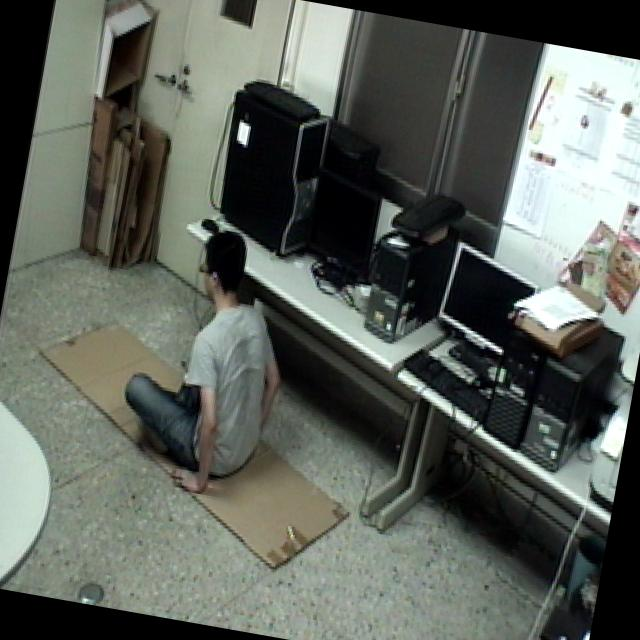sit: (102, 208, 316, 511)
